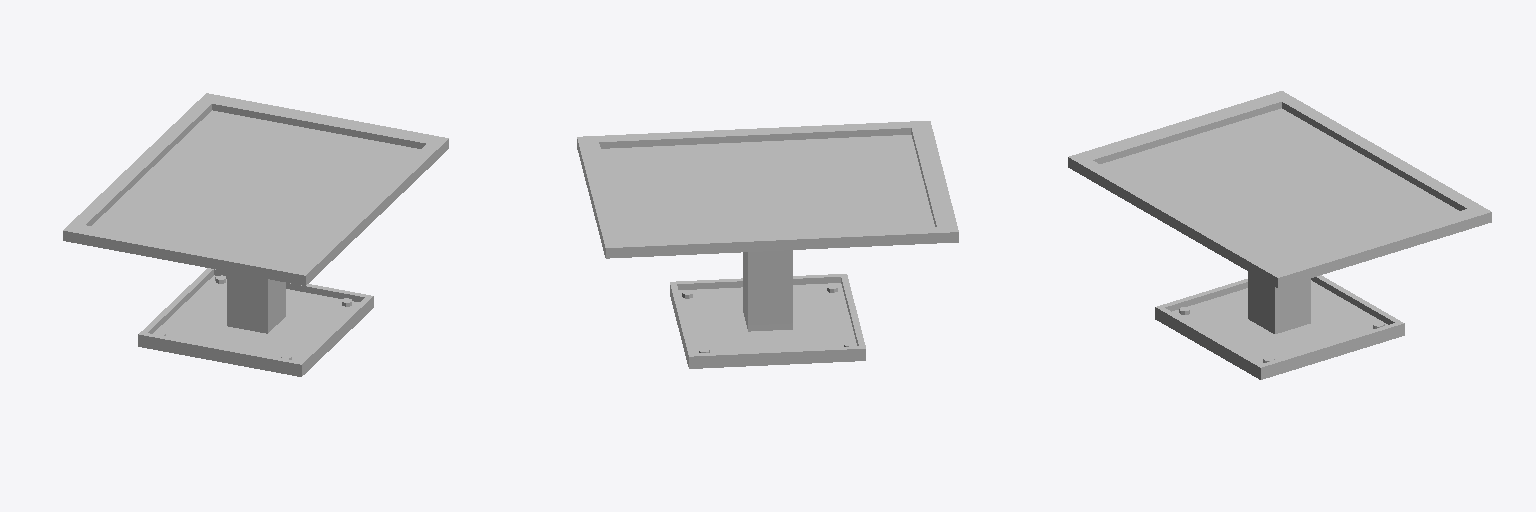
File: CryoTable.obj
The picture shows the model from 3 angles: view 1: azimuth 30°, elevation 25°; view 2: azimuth 150°, elevation 25°; view 3: azimuth 270°, elevation 25°; orthographic projection.
Visible parts, largest first — view 1: polySurface34 group11; view 2: polySurface34 group11; view 3: polySurface34 group11.
Part boxes in pixels (left/top/right/bottom): polySurface34 group11: left=63, top=93, right=448, bottom=376; polySurface34 group11: left=577, top=121, right=958, bottom=368; polySurface34 group11: left=1068, top=91, right=1491, bottom=379.
Bounding box in the file's own units: 2.04 × 0.7262 × 1.95.